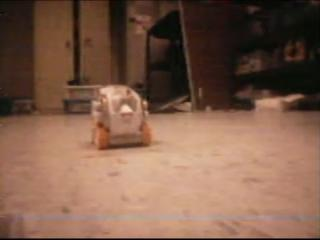cozmo: (89, 84, 153, 150)
